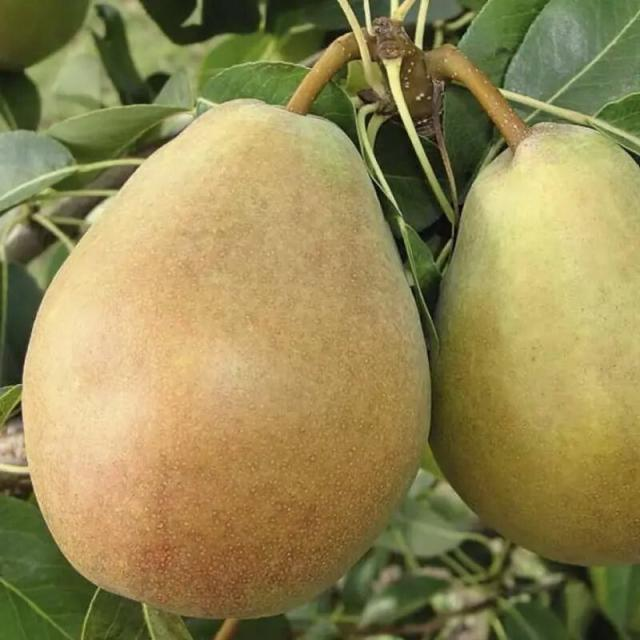pear: (20, 96, 433, 618), (428, 118, 638, 568)
